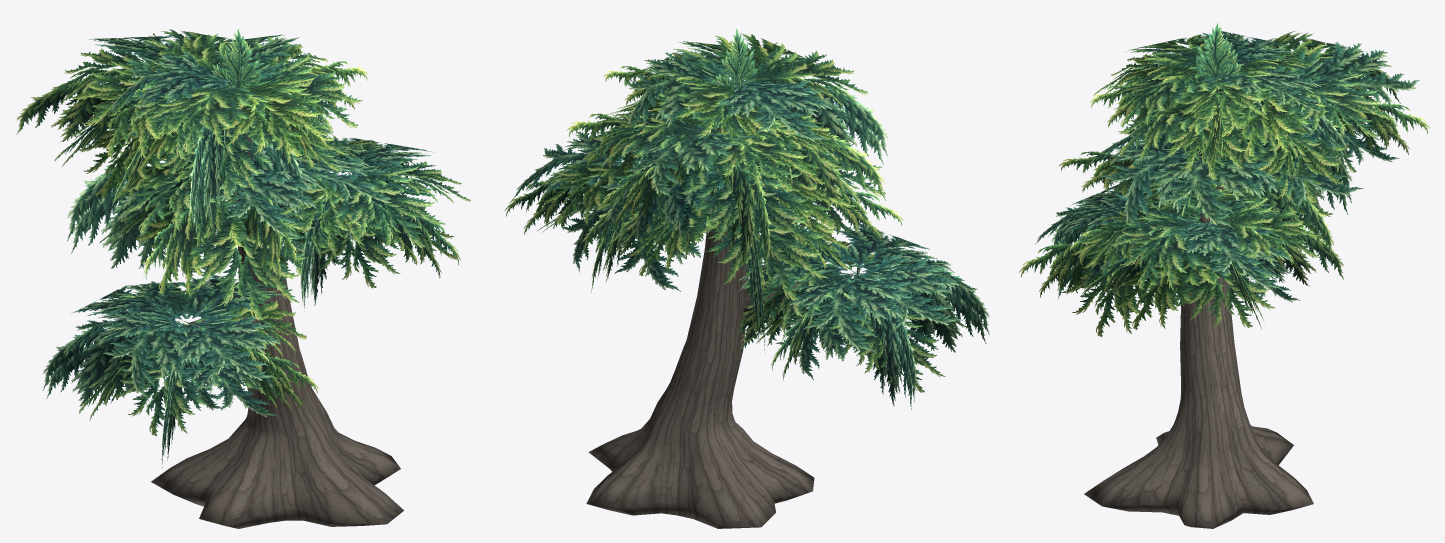
The model's file is tree_root_giant_a.glb.
The picture shows the model from 3 angles, left to right: view 1: azimuth 30°, elevation 25°; view 2: azimuth 150°, elevation 25°; view 3: azimuth 270°, elevation 25°; orthographic projection. The views are drawn at different scales.
Parts seen in each view (by area): view 1: tree_root_giant_a; view 2: tree_root_giant_a; view 3: tree_root_giant_a.
Boxes of the visible parts, box(x1,y1,x2,y2) form: tree_root_giant_a: box(16, 29, 470, 528); tree_root_giant_a: box(504, 29, 989, 528); tree_root_giant_a: box(1019, 23, 1429, 528).
Bounding box in the file's own units: 21.33 × 22.41 × 18.75.
Materials: 2 (2 with a texture image).
